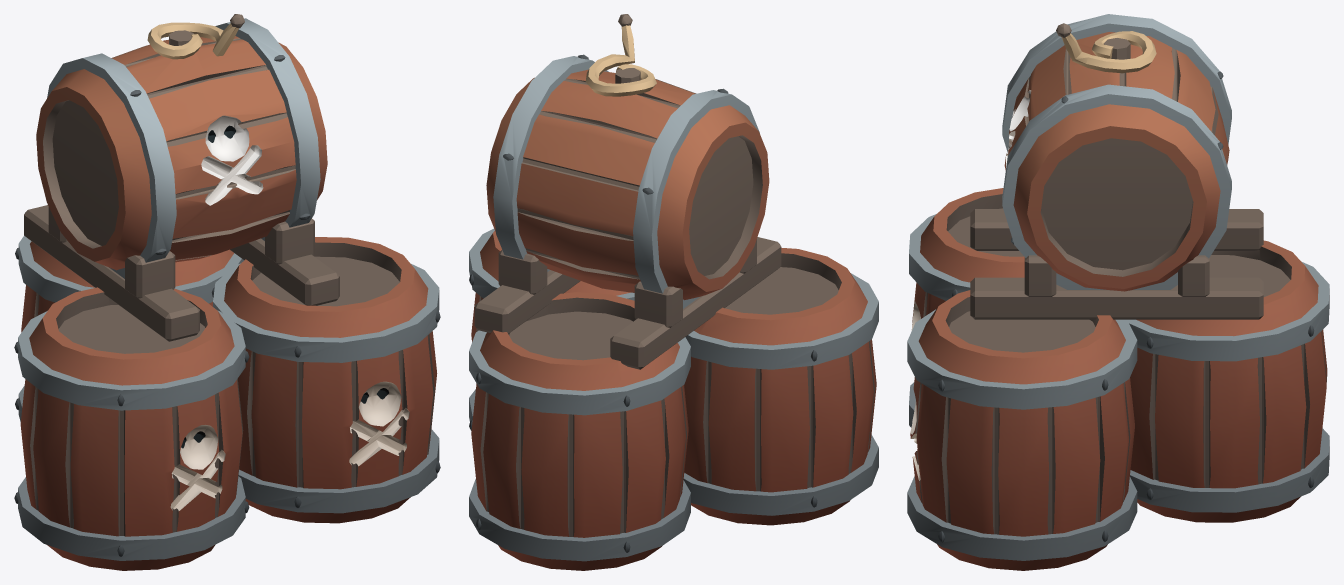
Rendered from blasting_kegs.glb.
The picture shows the model from 3 angles, left to right: view 1: azimuth 30°, elevation 25°; view 2: azimuth 150°, elevation 25°; view 3: azimuth 270°, elevation 25°; orthographic projection. The views are drawn at different scales.
Visible parts, largest first — view 1: blasting_kegs; view 2: blasting_kegs; view 3: blasting_kegs.
Boxes of the visible parts, <box> form: blasting_kegs: <box>14,14,440,570</box>; blasting_kegs: <box>469,14,878,570</box>; blasting_kegs: <box>907,14,1329,570</box>.
Bounding box in the file's own units: 2.01 × 2.33 × 1.87.
Materials: 1 (1 with a texture image).
